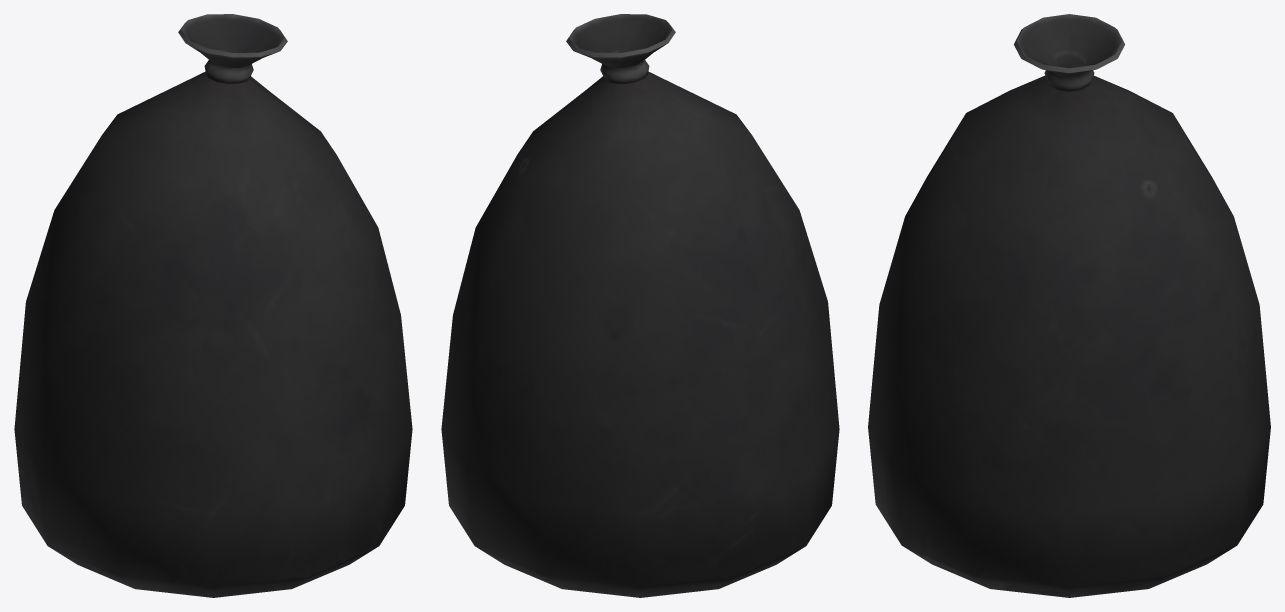
Rendered from SM_Props_Garbage_06.glb.
3 renders of one model, left to right at view 1: azimuth 30°, elevation 25°; view 2: azimuth 150°, elevation 25°; view 3: azimuth 270°, elevation 25°, orthographic.
Parts seen in each view (by area): view 1: SM_Props_Garbage_06; view 2: SM_Props_Garbage_06; view 3: SM_Props_Garbage_06.
Boxes of the visible parts, x1,y1,x2,y2 form: SM_Props_Garbage_06: (14,14,412,597); SM_Props_Garbage_06: (441,14,839,597); SM_Props_Garbage_06: (868,14,1270,597).
Size of the model in its own units: 0.4596 by 0.6347 by 0.4596.
1 material, 1 textured.
